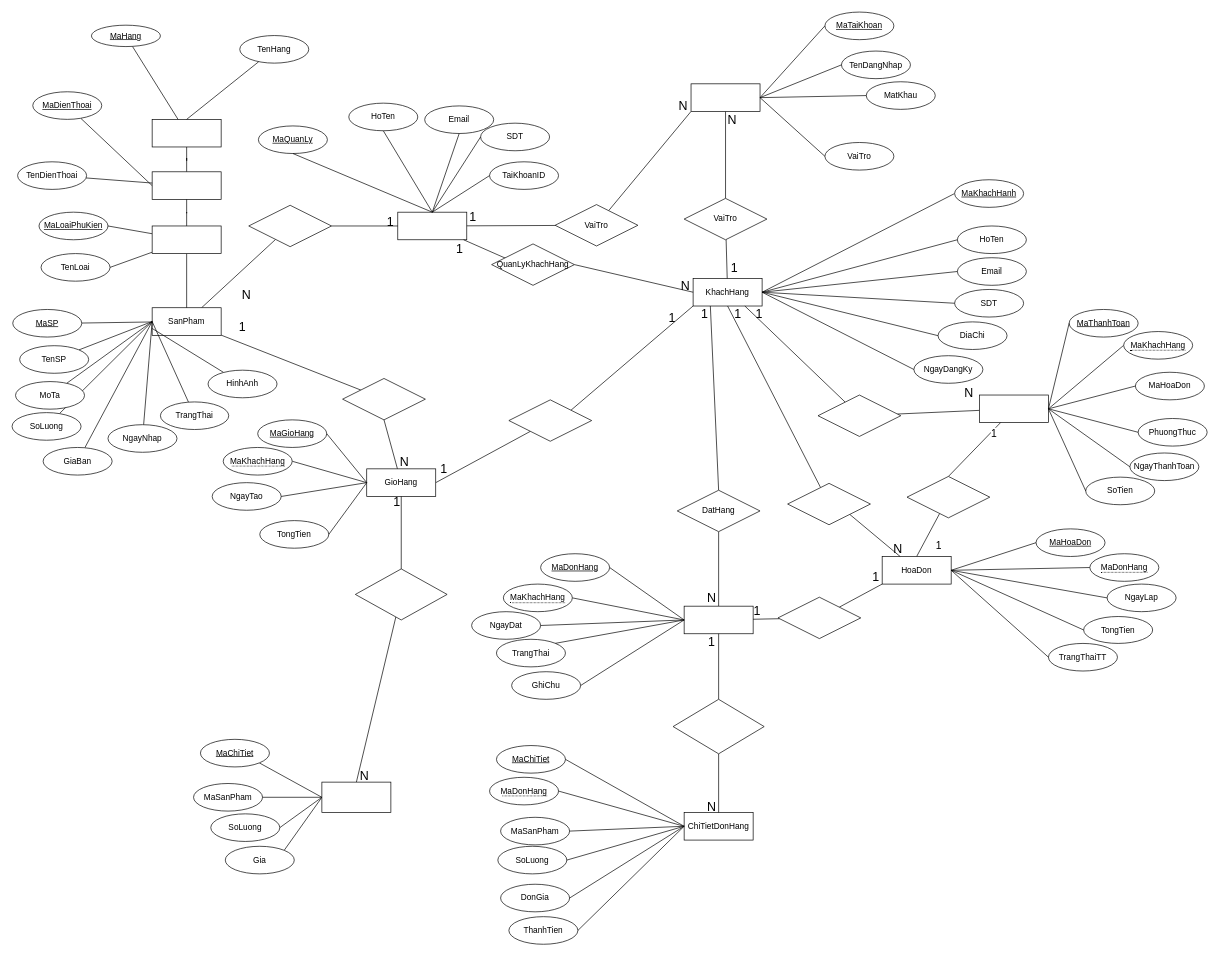
Some shapes in this 1219 by 956 pixel diagram are drawn without their labels. The centre of each missing label's shape, as x and y in pixels:
"ChiTietGioHang" goes at point 356,796.
"ChiTietSanPham TrongDonHang" goes at point 718,726.
"ChuaSanPham" goes at point 383,399.
"ChuaThongTin SanPham" goes at point 401,594.
"coGiaoDich" goes at point 859,415.
"DienThoai" goes at point 186,185.
"DonHang" goes at point 718,619.
"duocThanhToan" goes at point 948,497.
"DuocXuatCho" goes at point 828,504.
"HangDienThoai" goes at point 186,133.
"LoaiPhuKien" goes at point 186,239.
"QuanLy" goes at point 432,225.
"QuanLySanPham" goes at point 290,226.
"TaiKhoan" goes at point 725,97.
"TaoGioHang" goes at point 550,420.
"TaoHoaDon" goes at point 819,618.
"ThanhToan" goes at point 1013,408.
